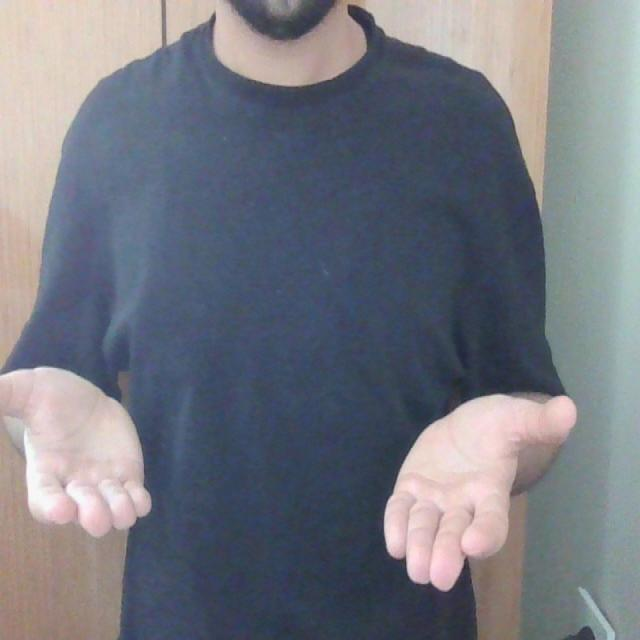Evet: (0, 361, 581, 593)
